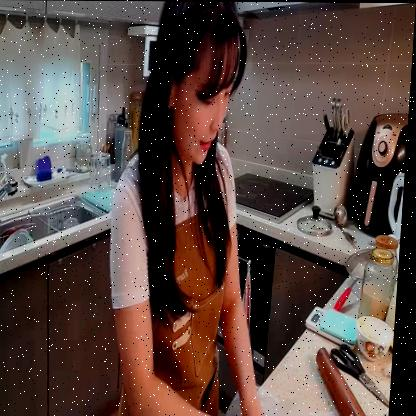streamer: (104, 1, 328, 416)
